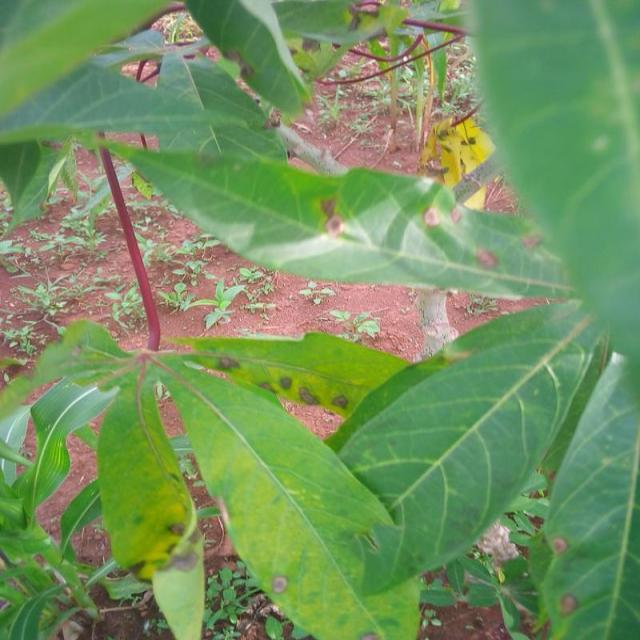cassava leaf: (2, 1, 639, 638), (150, 349, 422, 638)
